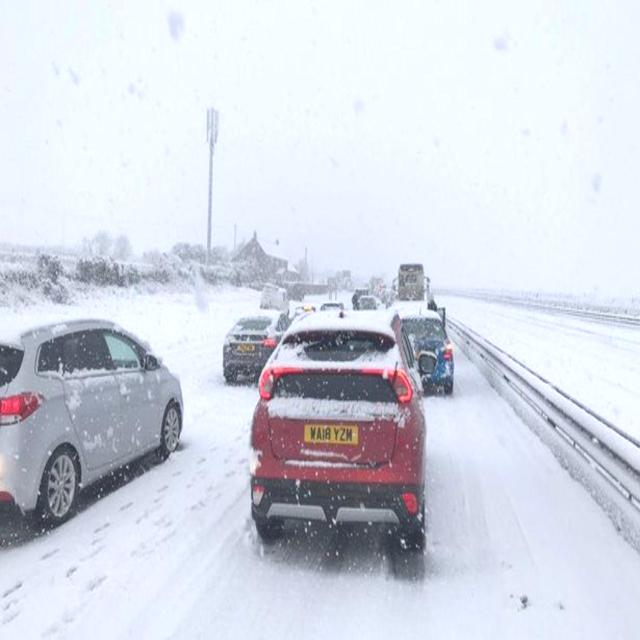Car: (239, 306, 425, 557), (0, 304, 186, 530), (220, 308, 289, 376), (401, 308, 455, 392), (352, 287, 376, 316), (320, 298, 347, 317), (293, 300, 316, 318)
Truck: (390, 247, 430, 312)
